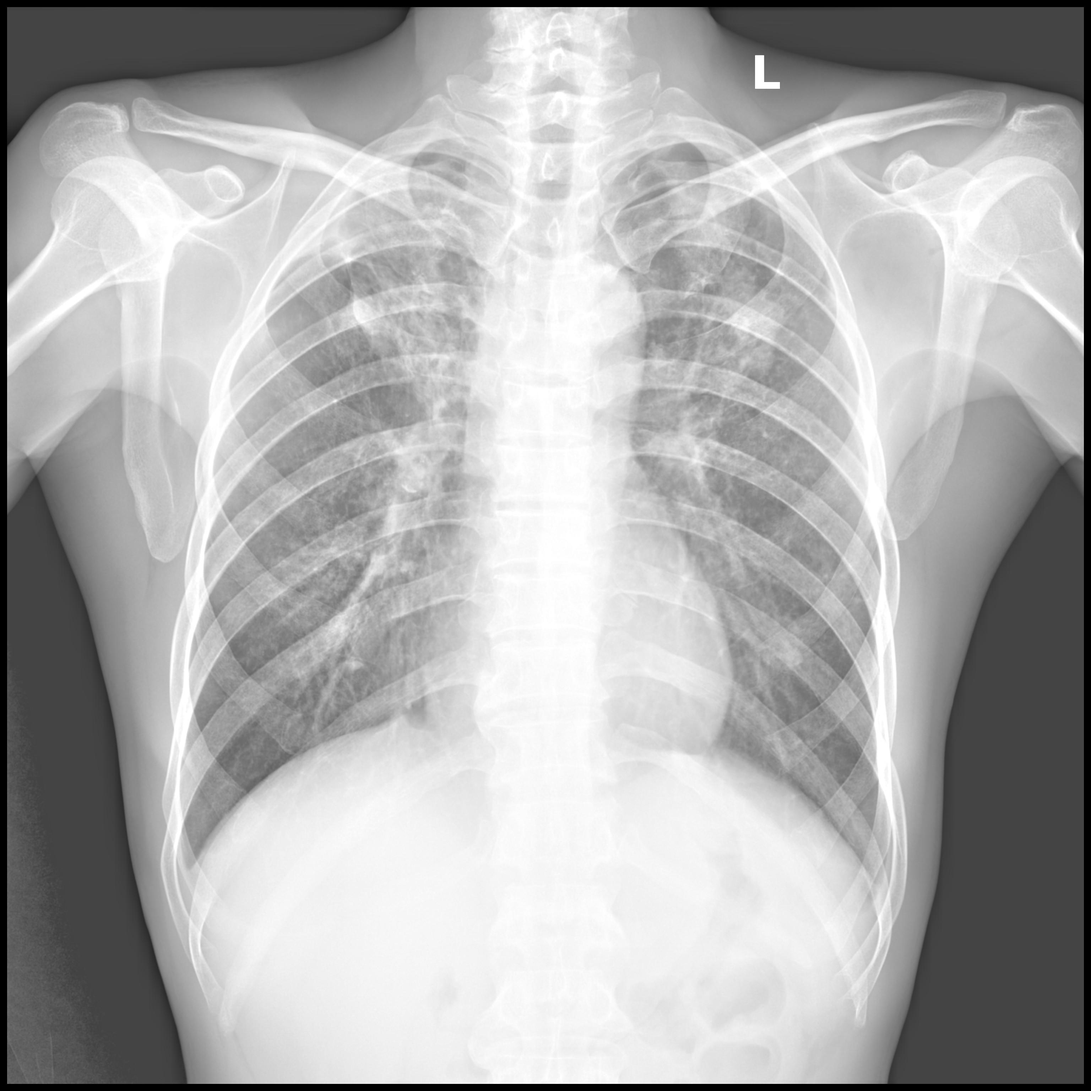Pulmonary fibrosis: (630, 169, 783, 478), (292, 153, 464, 408)
